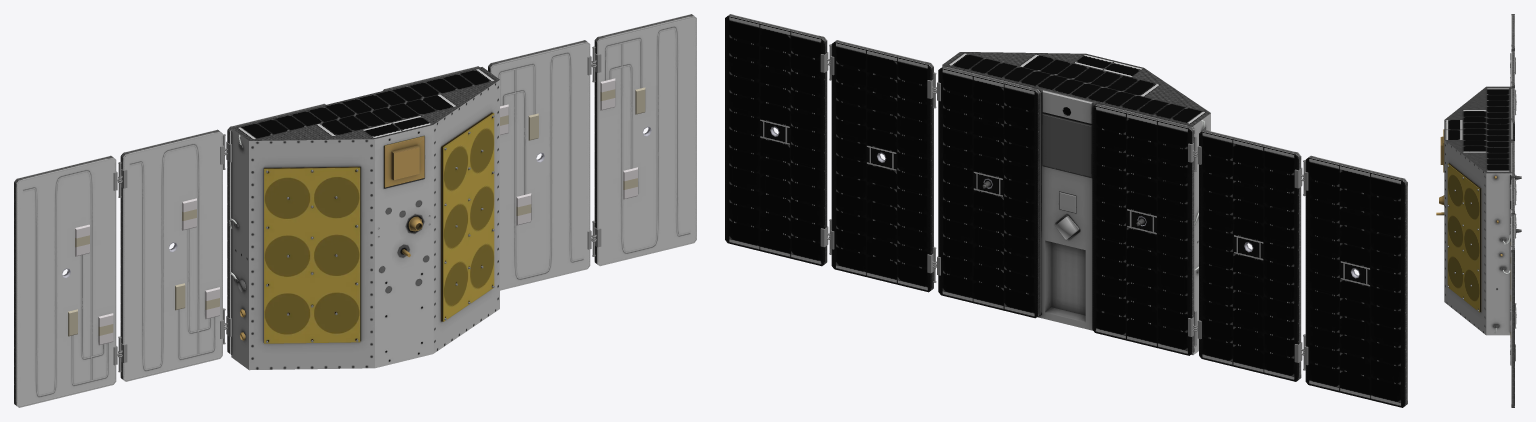
File: cygnss.glb
The picture shows the model from 3 angles, left to right: view 1: azimuth 30°, elevation 25°; view 2: azimuth 150°, elevation 25°; view 3: azimuth 270°, elevation 25°; orthographic projection. The views are drawn at different scales.
Parts seen in each view (by area): view 1: BUS, antenna_screws; view 2: BUS; view 3: BUS, antenna_screws.
Part boxes in pixels (bbox=[...]): BUS: bbox=[14, 14, 696, 407]; antenna_screws: bbox=[68, 78, 645, 345]; BUS: bbox=[725, 14, 1407, 407]; BUS: bbox=[1436, 14, 1521, 407]; antenna_screws: bbox=[1447, 78, 1511, 344].
Bounding box in the file's own units: 1.59 × 0.512 × 0.2441.
Materials: 3 (3 with a texture image).
